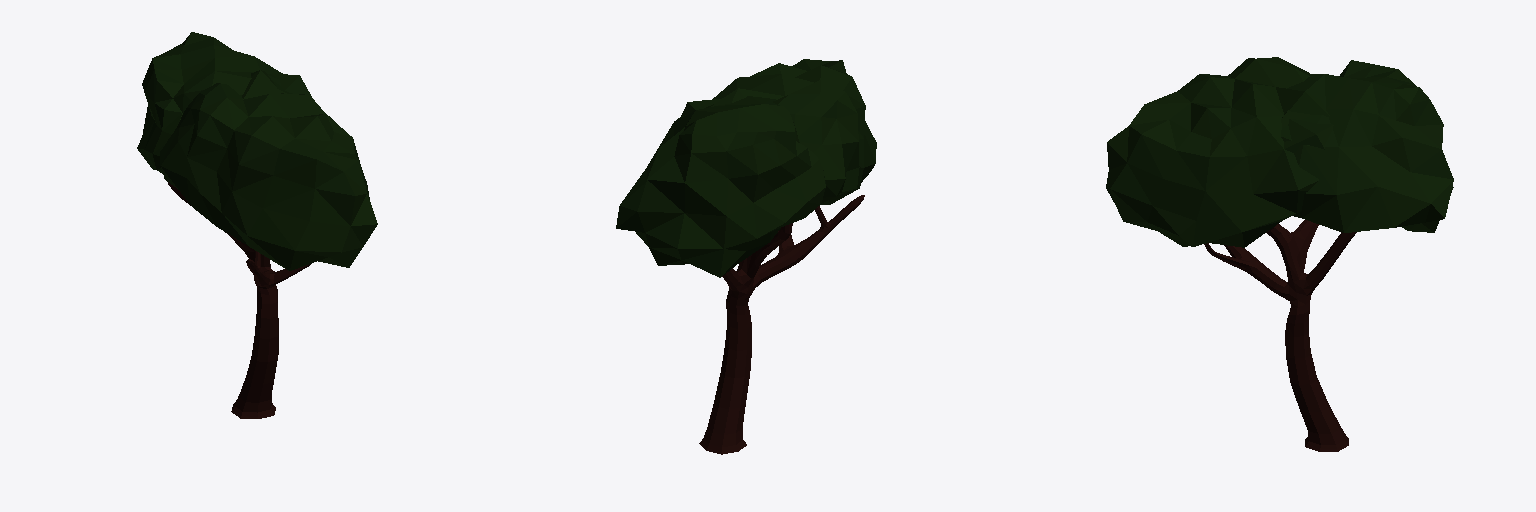
Rendered from commonTree.obj.
The picture shows the model from 3 angles: view 1: azimuth 30°, elevation 25°; view 2: azimuth 150°, elevation 25°; view 3: azimuth 270°, elevation 25°; orthographic projection.
Visible parts, largest first — view 1: CommonTree_5_Cube.014; view 2: CommonTree_5_Cube.014; view 3: CommonTree_5_Cube.014.
Boxes of the visible parts, x1,y1,x2,y2 form: CommonTree_5_Cube.014: [137, 32, 377, 418]; CommonTree_5_Cube.014: [616, 59, 876, 454]; CommonTree_5_Cube.014: [1106, 57, 1453, 451].
Bounding box in the file's own units: 1.29 × 2.53 × 2.25.